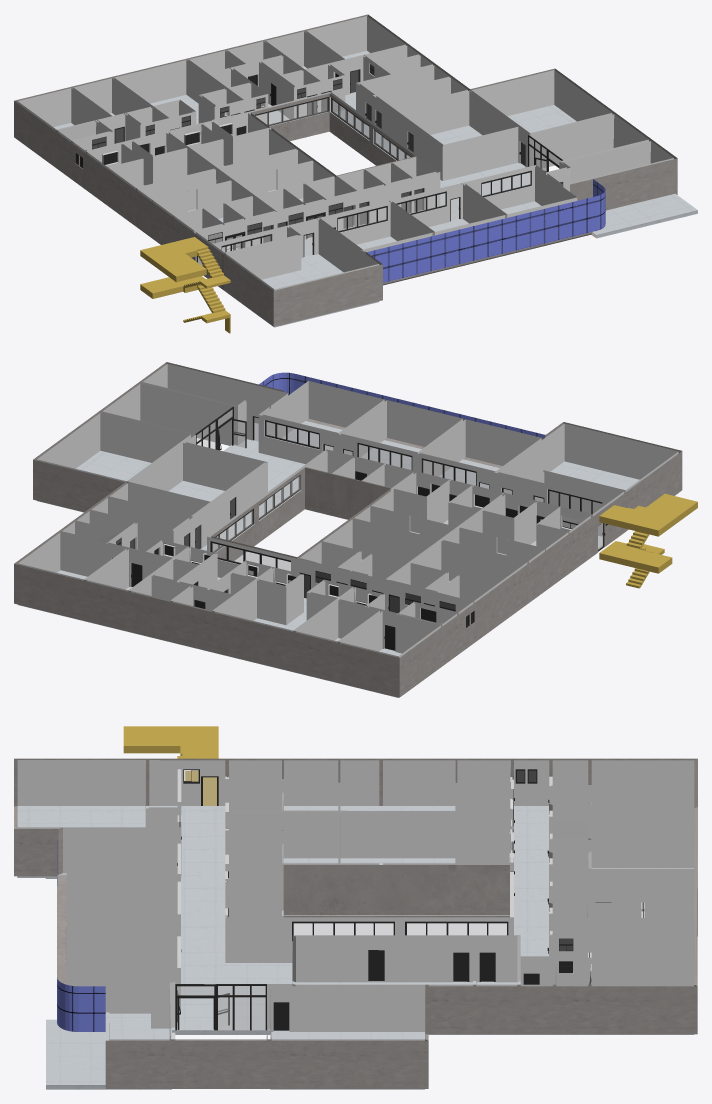
The model's file is POSGRADO-P2OP.glb.
3 views of the same model, one above another, from view 1: azimuth 30°, elevation 25°; view 2: azimuth 150°, elevation 25°; view 3: azimuth 270°, elevation 25° (orthographic). The views are drawn at different scales.
Visible parts, largest first — view 1: Paredes_P2, PiuertasVentanas, Piso_P2, pusya2:polySurface1.001, EscalerasAfuera p2; view 2: Paredes_P2, PiuertasVentanas, Piso_P2, EscalerasAfuera p2, pusya2:polySurface1.001; view 3: Paredes_P2, Piso_P2, PiuertasVentanas, EscalerasAfuera p2, pusya2:polySurface1.001.
Boxes of the visible parts, bbox=[...] form: Paredes_P2: bbox=[14, 14, 677, 326]; PiuertasVentanas: bbox=[75, 64, 562, 265]; Piso_P2: bbox=[53, 51, 697, 327]; pusya2:polySurface1.001: bbox=[367, 179, 605, 282]; EscalerasAfuera p2: bbox=[140, 237, 230, 333]; Paredes_P2: bbox=[14, 362, 682, 697]; PiuertasVentanas: bbox=[112, 406, 608, 650]; Piso_P2: bbox=[18, 421, 639, 697]; EscalerasAfuera p2: bbox=[599, 493, 697, 588]; pusya2:polySurface1.001: bbox=[259, 372, 544, 438]; Paredes_P2: bbox=[14, 758, 697, 1088]; Piso_P2: bbox=[17, 806, 694, 1089]; PiuertasVentanas: bbox=[175, 769, 643, 1030]; EscalerasAfuera p2: bbox=[123, 726, 218, 805]; pusya2:polySurface1.001: bbox=[57, 840, 105, 1031].
Size of the model in its own units: 0.4251 by 0.0603 by 0.3865.
7 materials, 3 textured.
